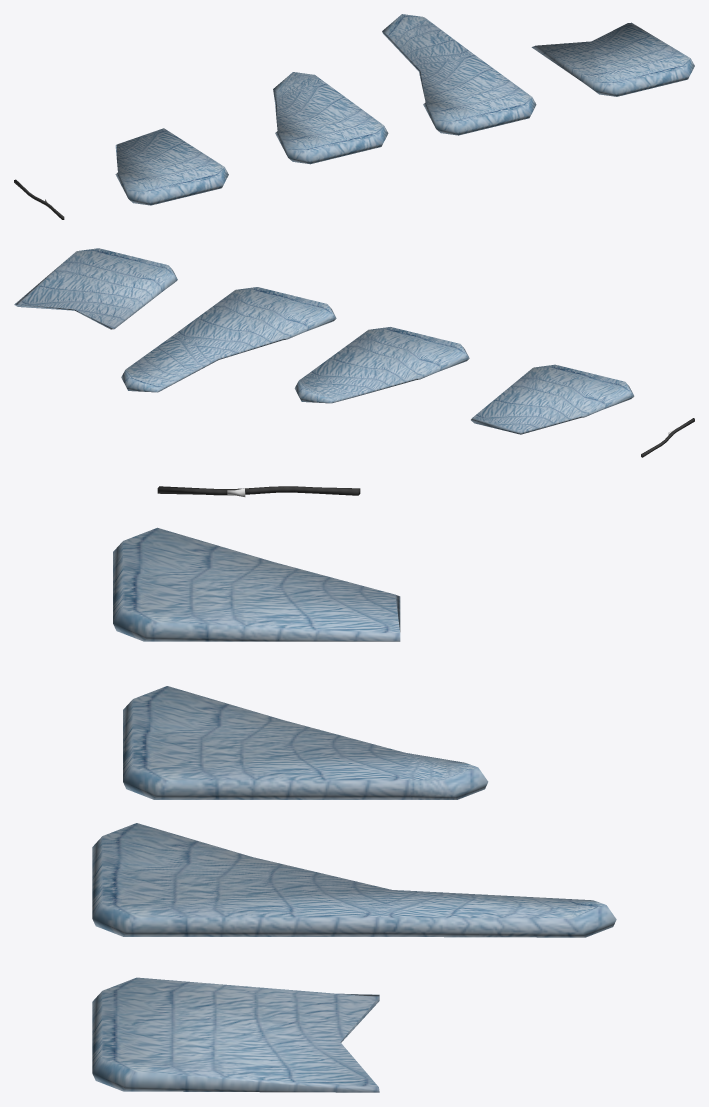
The model's file is DamagedSleepingBags_White.obj.
The picture shows the model from 3 angles, top to bottom: view 1: azimuth 30°, elevation 25°; view 2: azimuth 150°, elevation 25°; view 3: azimuth 270°, elevation 25°; orthographic projection. The views are drawn at different scales.
Parts seen in each view (by area): view 1: Cube.039_Material.019, Cube.037_Material.019, Cube.040_Material.019, Cube.036_Material.019; view 2: Cube.039_Material.019, Cube.037_Material.019, Cube.040_Material.019, Cube.036_Material.019; view 3: Cube.039_Material.019, Cube.040_Material.019, Cube.037_Material.019, Cube.036_Material.019, Plane.006_Material.019.
Part boxes in pixels (x1=…): Cube.039_Material.019: x1=382, y1=14, x2=536, y2=135; Cube.037_Material.019: x1=273, y1=72, x2=388, y2=164; Cube.040_Material.019: x1=531, y1=22, x2=694, y2=96; Cube.036_Material.019: x1=115, y1=128, x2=228, y2=205; Cube.039_Material.019: x1=121, y1=287, x2=336, y2=392; Cube.037_Material.019: x1=294, y1=327, x2=469, y2=403; Cube.040_Material.019: x1=14, y1=248, x2=177, y2=329; Cube.036_Material.019: x1=471, y1=364, x2=634, y2=434; Cube.039_Material.019: x1=92, y1=823, x2=616, y2=937; Cube.040_Material.019: x1=92, y1=977, x2=379, y2=1092; Cube.037_Material.019: x1=123, y1=686, x2=488, y2=799; Cube.036_Material.019: x1=113, y1=527, x2=400, y2=641; Plane.006_Material.019: x1=157, y1=486, x2=360, y2=495.
Bounding box in the file's own units: 4.87 × 0.1058 × 1.77.
